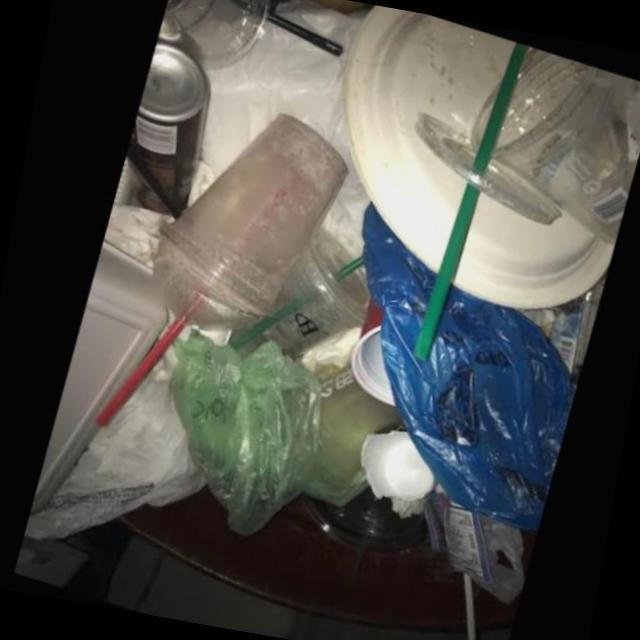goi_nhua_nho: (417, 482, 484, 581)
hop_nhua: (412, 48, 640, 243), (147, 109, 346, 325), (221, 244, 367, 356), (157, 0, 272, 68)
nhom: (124, 35, 209, 217)
ong_hut_nhua: (409, 171, 479, 358), (89, 308, 187, 422), (468, 41, 526, 174)
tui_ni_long: (357, 201, 570, 528), (17, 343, 201, 537), (165, 326, 319, 532)
xop: (342, 4, 514, 270), (23, 237, 166, 510), (448, 190, 614, 307), (354, 424, 431, 512)
